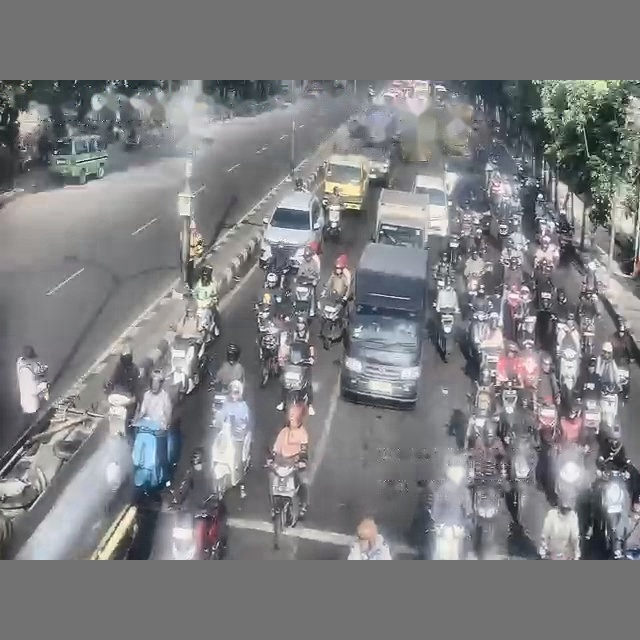Motor: (171, 494, 226, 559), (594, 469, 630, 557), (211, 416, 251, 495), (266, 459, 300, 549), (170, 336, 207, 396), (281, 343, 312, 406), (258, 326, 280, 387), (320, 294, 344, 349), (107, 389, 135, 436), (559, 346, 579, 402), (293, 276, 315, 319), (600, 384, 619, 430), (438, 308, 454, 361), (323, 200, 341, 239), (580, 315, 595, 356)
